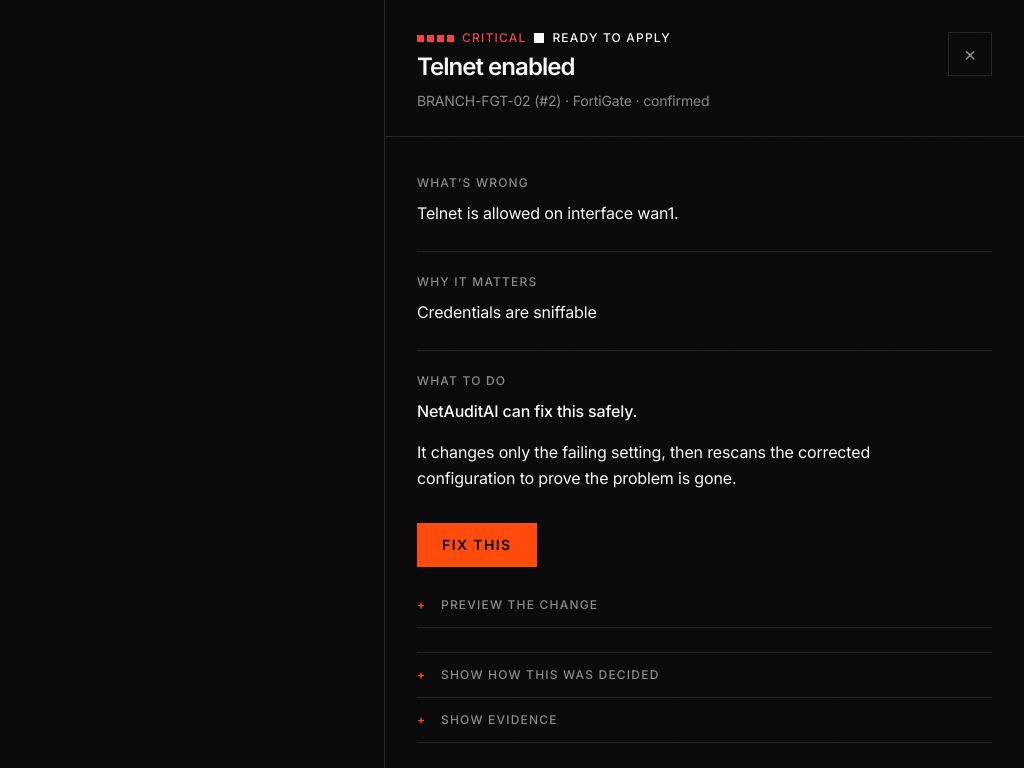
Scenario: fixes the finding's own upload, not the first configuration sharing its hostname
Click the button "Fix this" at (477, 545), box left=417, top=523, right=537, bottom=567
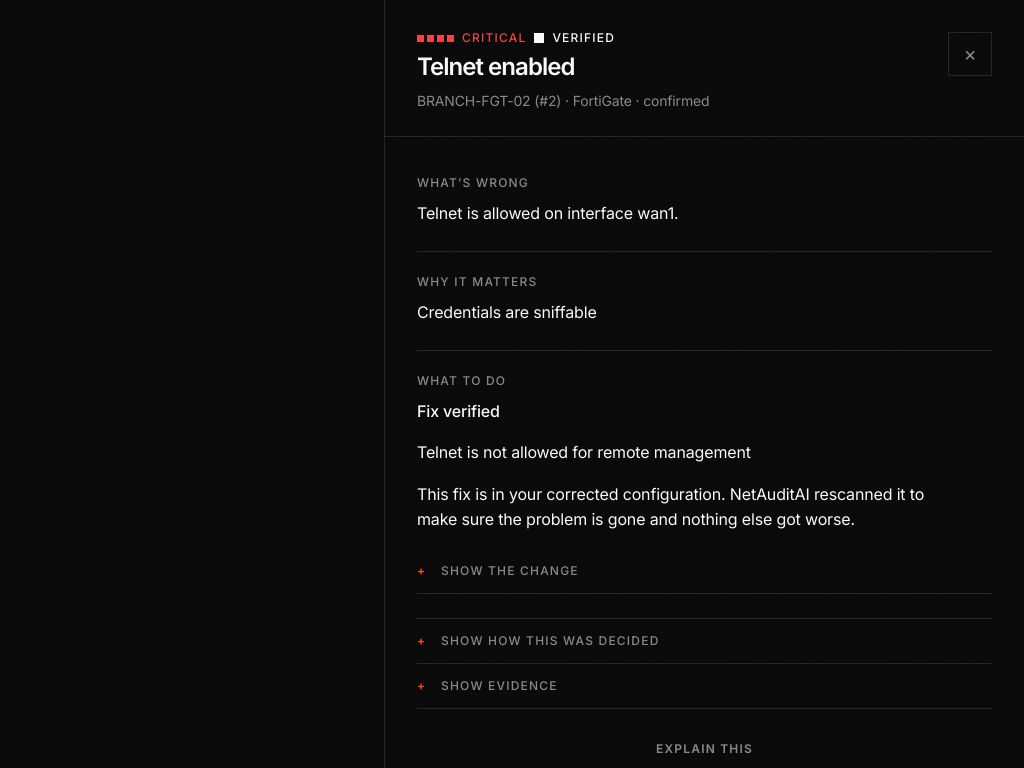
expect the text "Fix verified" is shown: met, box left=417, top=401, right=500, bottom=421
expect the text "Telnet is not allowed for remote management" is shown: met, box left=417, top=442, right=751, bottom=462
Click the button "Show the change" at (510, 570), box left=417, top=549, right=992, bottom=593
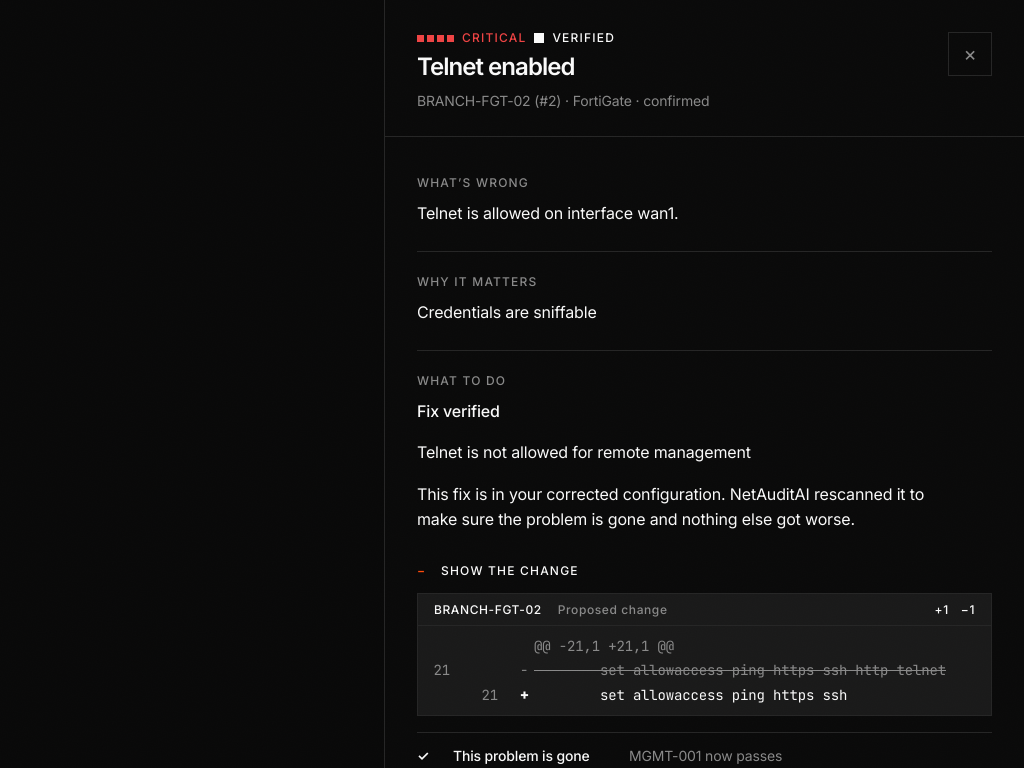
expect the text "set allowaccess ping https ssh" is shown: met, box left=534, top=686, right=847, bottom=704
